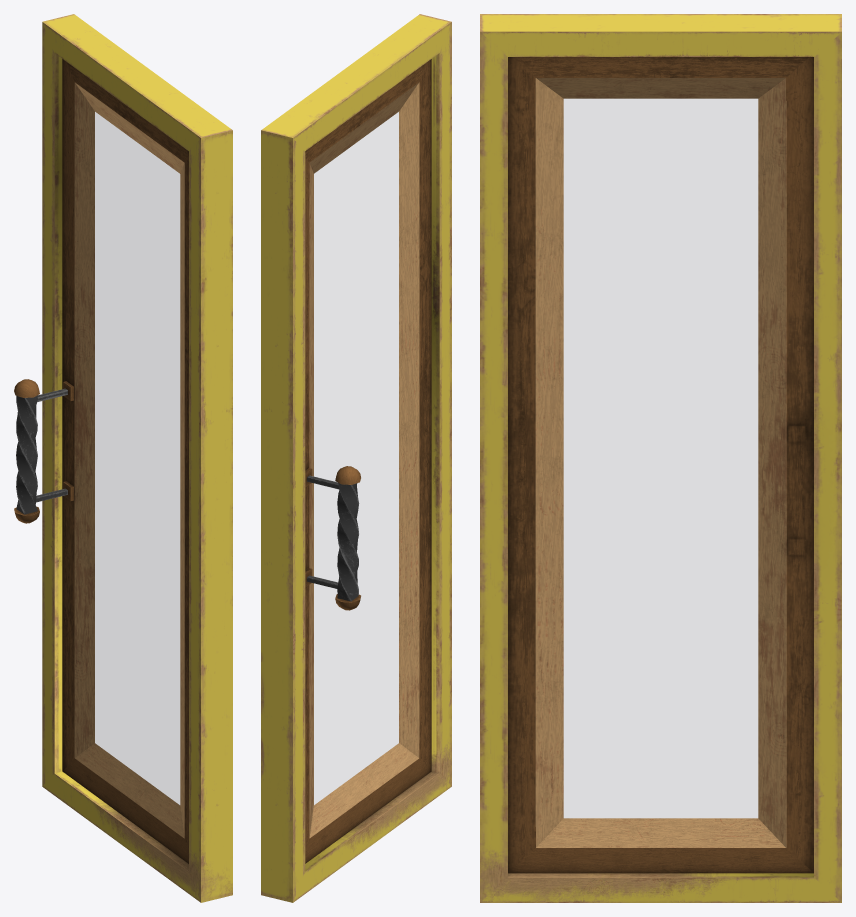
Rendered from kitchenClosetDoor2.fbx.
The picture shows the model from 3 angles, left to right: view 1: azimuth 30°, elevation 25°; view 2: azimuth 150°, elevation 25°; view 3: azimuth 270°, elevation 25°; orthographic projection. The views are drawn at different scales.
Parts seen in each view (by area): view 1: kitchenClosetDoor2; view 2: kitchenClosetDoor2; view 3: kitchenClosetDoor2.
Boxes of the visible parts, x1,y1,x2,y2 form: kitchenClosetDoor2: (14,14,232,902); kitchenClosetDoor2: (261,14,451,902); kitchenClosetDoor2: (480,14,841,902).
Bounding box in the file's own units: 7.42 × 68.83 × 25.92.
